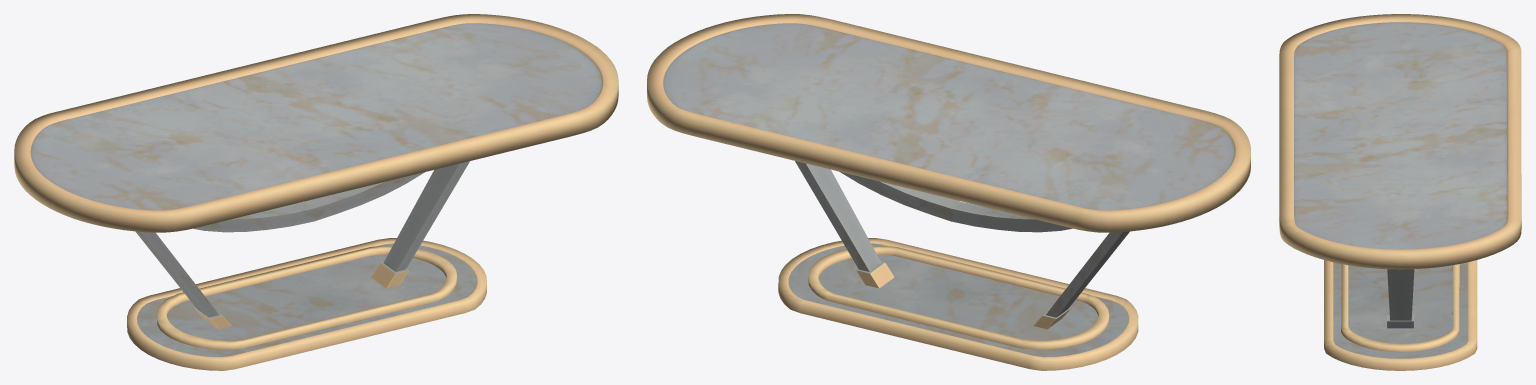
The model's file is SM_SP_Table.fbx.
The picture shows the model from 3 angles, left to right: view 1: azimuth 30°, elevation 25°; view 2: azimuth 150°, elevation 25°; view 3: azimuth 270°, elevation 25°; orthographic projection. The views are drawn at different scales.
Visible parts, largest first — view 1: SM_SP_Table; view 2: SM_SP_Table; view 3: SM_SP_Table.
Boxes of the visible parts, box(x1,y1,x2,y2) form: SM_SP_Table: box(14, 14, 618, 370); SM_SP_Table: box(647, 14, 1250, 370); SM_SP_Table: box(1279, 14, 1521, 370).
Bounding box in the file's own units: 2.12 × 0.694 × 0.9013.
Materials: 1 (1 with a texture image).
